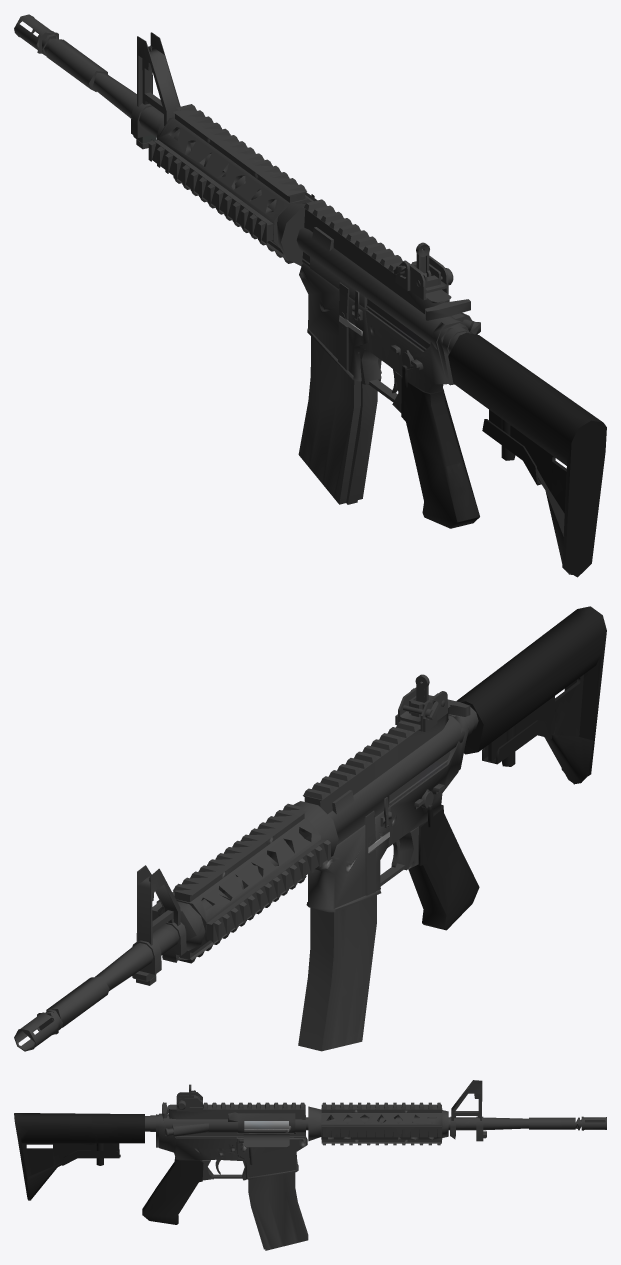
The model's file is 010_M4A1_cc0_card.glb.
3 renders of one model, top to bottom at view 1: azimuth 30°, elevation 25°; view 2: azimuth 150°, elevation 25°; view 3: azimuth 270°, elevation 25°, orthographic. The views are drawn at different scales.
Parts seen in each view (by area): view 1: Base, Barrel, Stock, Magazine, Sight; view 2: Base, Barrel, Stock, Magazine, Sight; view 3: Base, Barrel, Stock, Magazine, Ejector_Lid, Sight, Ejector.
Part boxes in pixels (x1,y1,x2,y2): Base: (296, 199, 480, 528); Barrel: (14, 14, 317, 266); Stock: (441, 326, 606, 577); Magazine: (298, 319, 377, 504); Sight: (395, 242, 448, 300); Base: (303, 703, 479, 930); Barrel: (14, 801, 338, 1051); Stock: (456, 606, 606, 784); Magazine: (298, 895, 376, 1051); Sight: (395, 674, 447, 731); Base: (142, 1102, 307, 1224); Barrel: (306, 1080, 606, 1145); Stock: (14, 1113, 156, 1200); Magazine: (248, 1137, 308, 1250); Ejector_Lid: (237, 1132, 296, 1147); Sight: (176, 1084, 202, 1111); Ejector: (244, 1121, 288, 1128).
Bounding box in the file's own units: 0.0624 × 0.2659 × 0.8588.
Materials: 1 (1 with a texture image).
